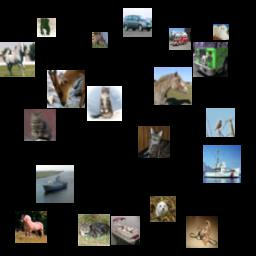automobile: (123, 8, 152, 37)
bird: (206, 108, 235, 137)
cat: (87, 86, 122, 121), (24, 109, 56, 141), (186, 216, 218, 248), (138, 126, 170, 158), (78, 214, 110, 246)
deer: (47, 70, 85, 108), (92, 32, 108, 48)
dog: (150, 196, 176, 222), (37, 18, 56, 37), (213, 24, 229, 40)
ship: (36, 165, 74, 203), (203, 145, 241, 183), (111, 216, 140, 245)
truck: (193, 42, 228, 77), (169, 28, 191, 50)
